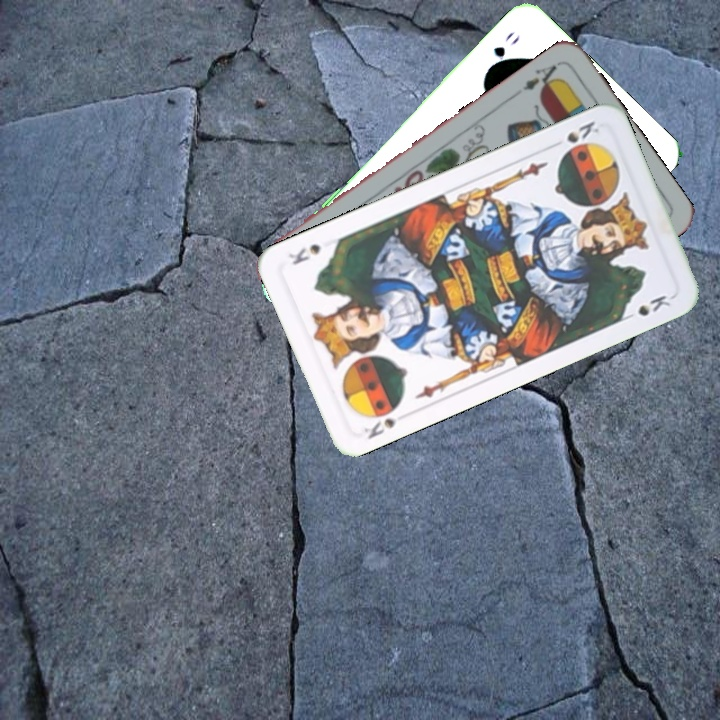EA: (518, 58, 564, 95)
GO: (483, 28, 523, 74)
SK: (547, 117, 602, 157), (359, 413, 399, 442)
